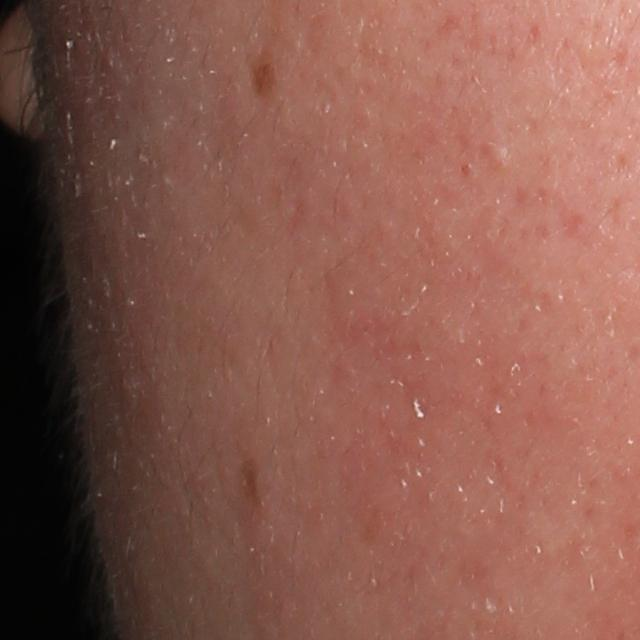comedo: (478, 136, 516, 168)
nevus: (245, 55, 273, 97)
